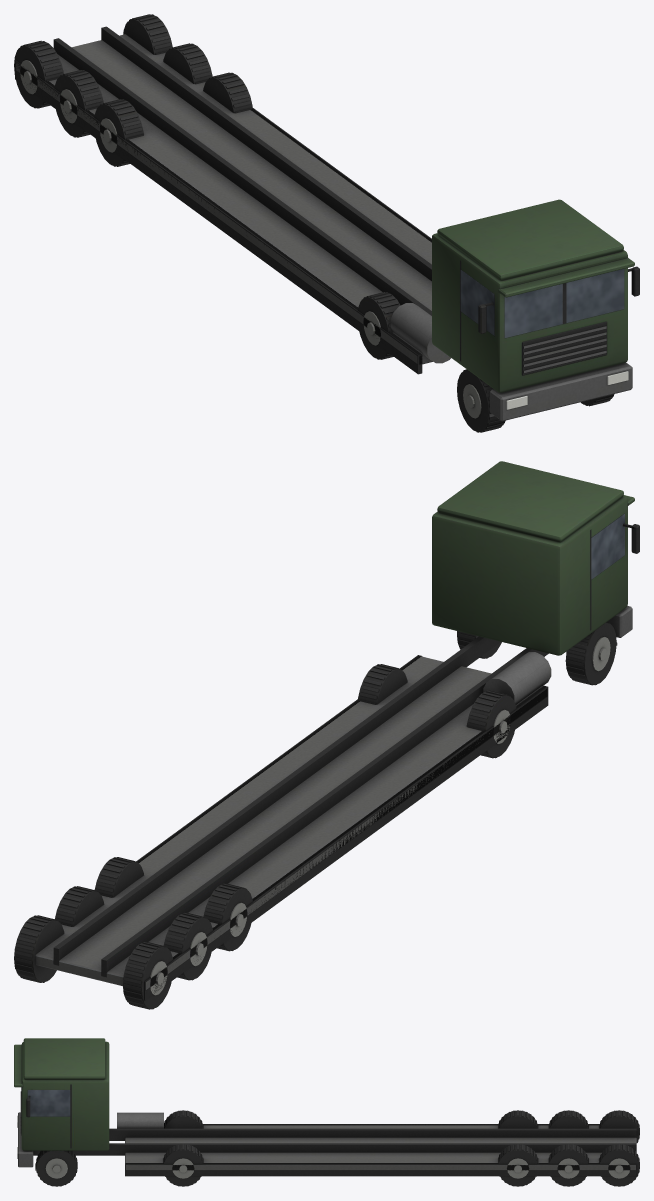
Rendered from truck_flat_green.glb.
The picture shows the model from 3 angles, top to bottom: view 1: azimuth 30°, elevation 25°; view 2: azimuth 150°, elevation 25°; view 3: azimuth 270°, elevation 25°; orthographic projection. The views are drawn at different scales.
Visible parts, largest first — view 1: truck_flat_green; view 2: truck_flat_green; view 3: truck_flat_green.
Boxes of the visible parts, bbox=[...] form: truck_flat_green: bbox=[14, 14, 639, 432]; truck_flat_green: bbox=[14, 461, 639, 1009]; truck_flat_green: bbox=[14, 1038, 639, 1186].
Bounding box in the file's own units: 3.01 × 3.13 × 16.08.
Materials: 1 (1 with a texture image).
